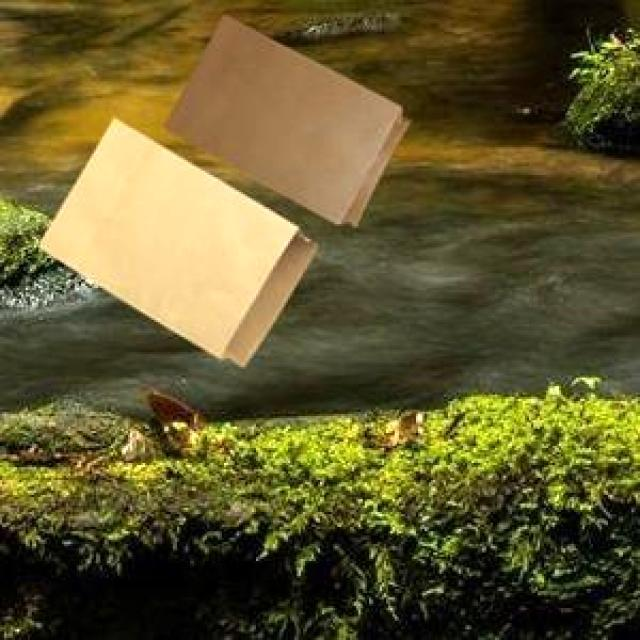Paper_Bag: (35, 116, 315, 364), (161, 12, 406, 223)
